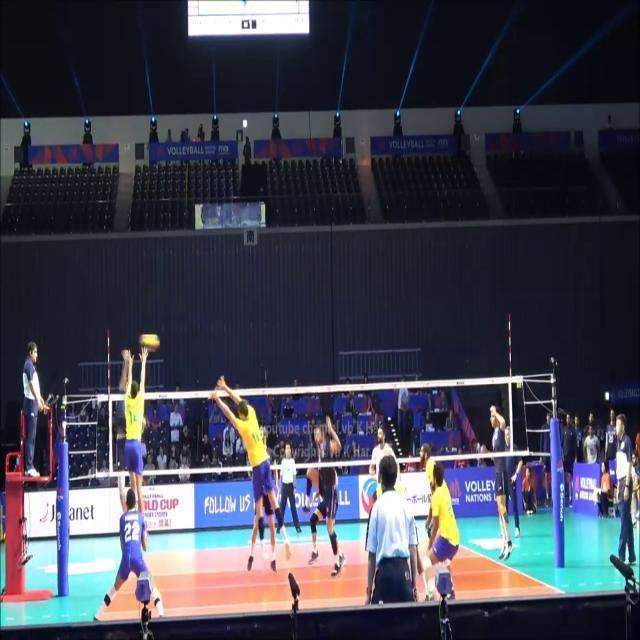volleyball: (138, 331, 160, 354)
